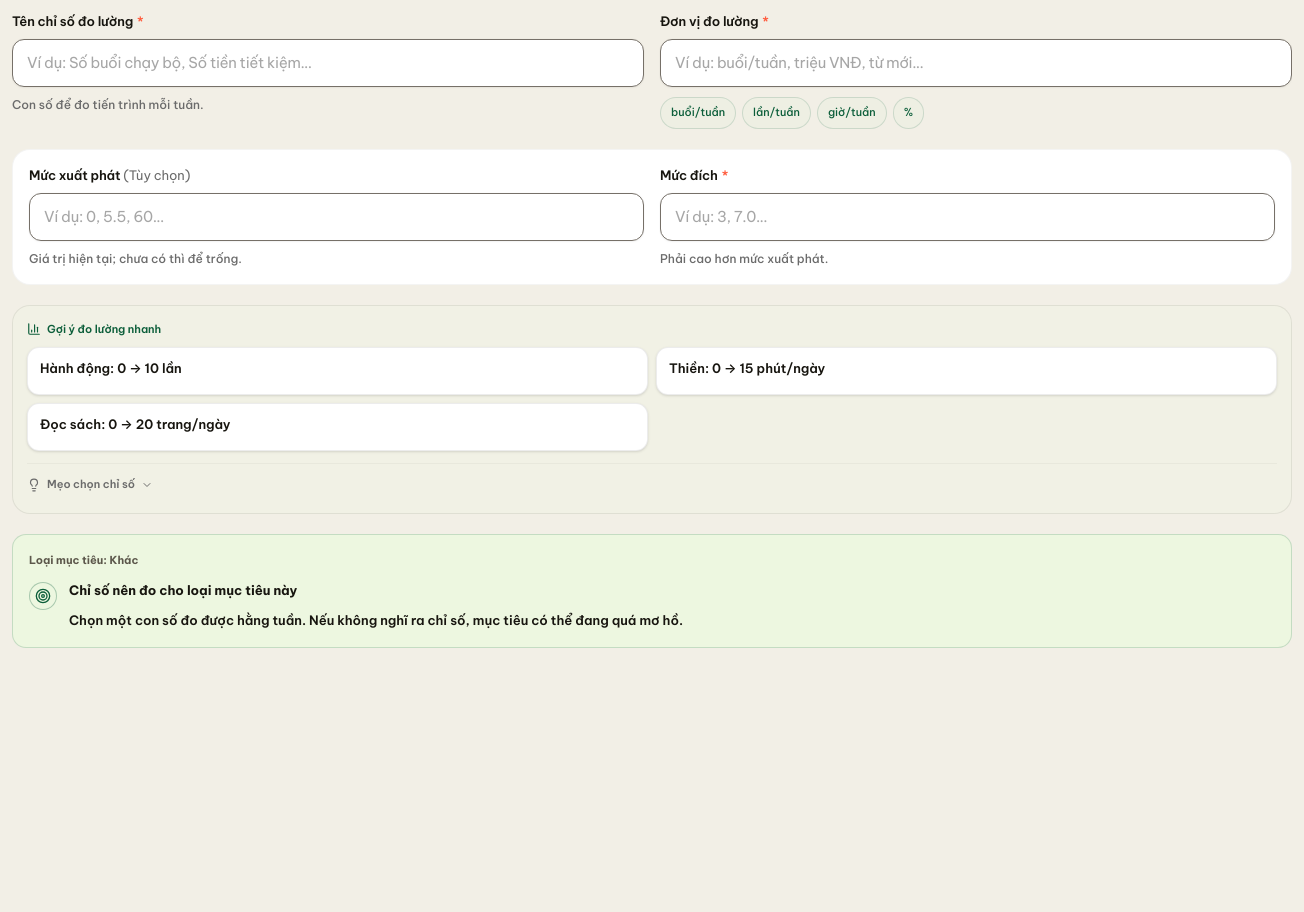
MeasurableStep — intent metric hint › shows required hints after first blur without waiting for submit
Expected: the text "Chọn một chỉ số cụ thể để bắt đầu đo lường." is not shown
Click the field labelled "Tên chỉ số đo lường*" at (328, 63), box [12,39,644,87]
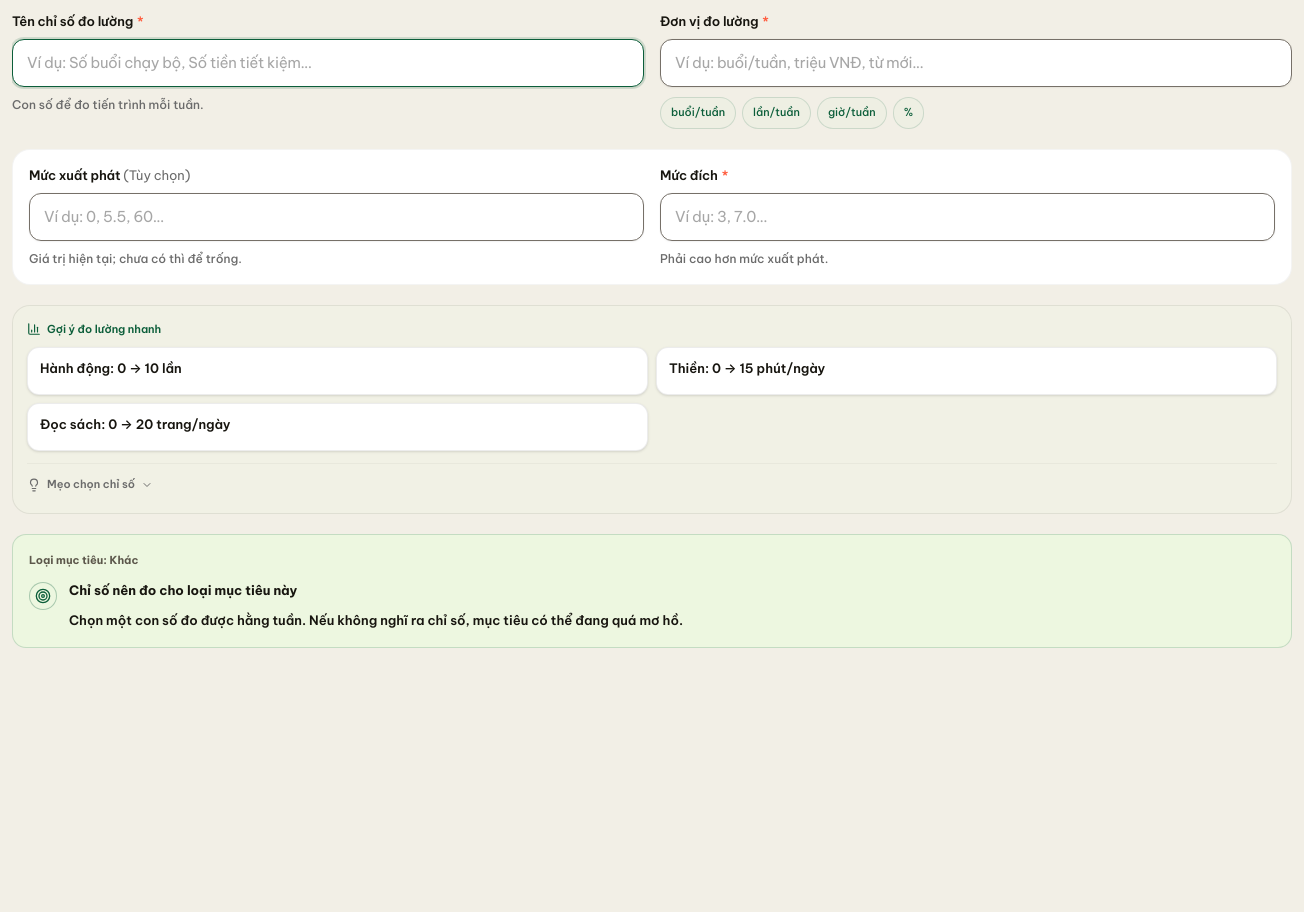
Press Tab
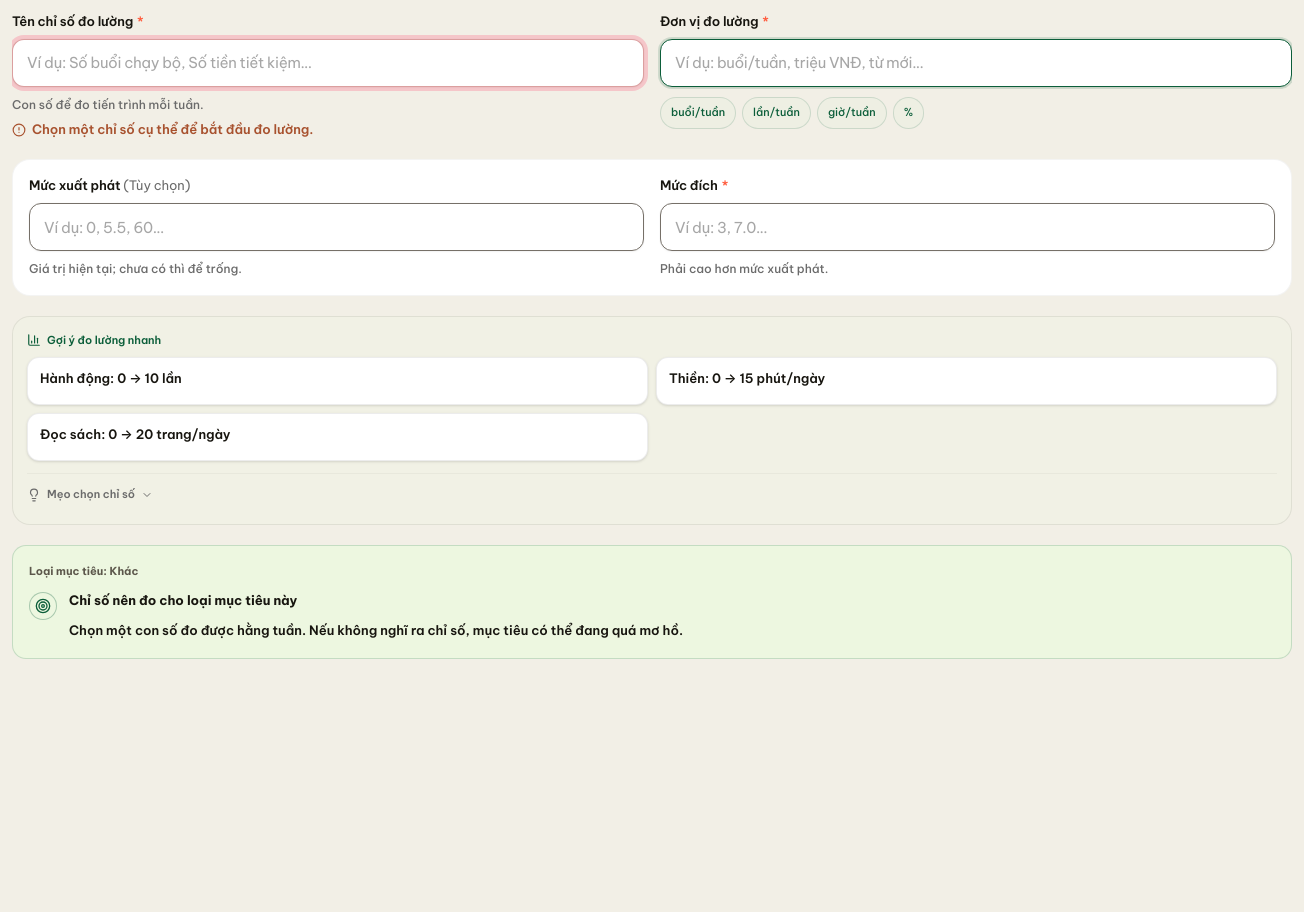
Expected: the text "Chọn một chỉ số cụ thể để bắt đầu đo lường." is shown, [32,120,313,139]
